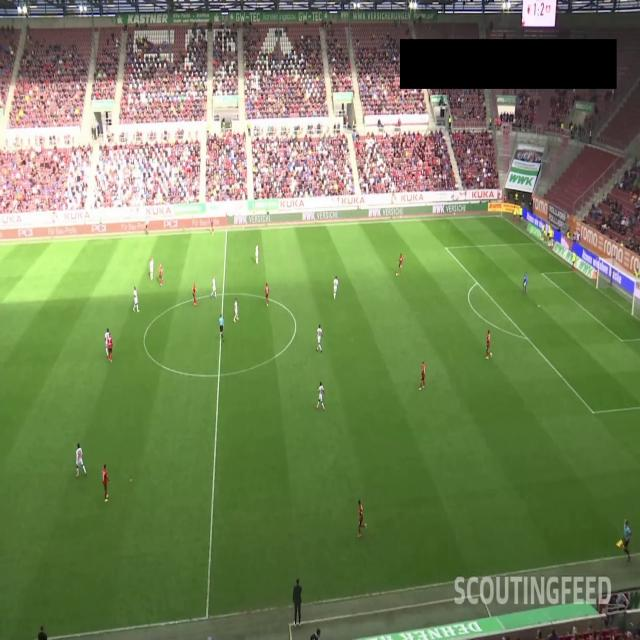Ball: (396, 272, 398, 276)
GoalKeeper: (523, 271, 528, 295)
Referee: (616, 520, 632, 564), (219, 314, 224, 342), (145, 217, 149, 235)
TEAM 1: (357, 499, 368, 539), (102, 465, 111, 501), (486, 329, 492, 362), (419, 360, 425, 389), (108, 334, 113, 364), (192, 283, 198, 306), (398, 254, 404, 276), (158, 264, 164, 286), (265, 283, 269, 306), (210, 217, 214, 235)
TEAM 2: (75, 443, 87, 477), (316, 382, 325, 410), (316, 324, 322, 353), (105, 329, 111, 358), (210, 276, 217, 299), (133, 286, 139, 312), (333, 275, 339, 300), (234, 298, 239, 322), (149, 258, 154, 279), (255, 244, 259, 265)
